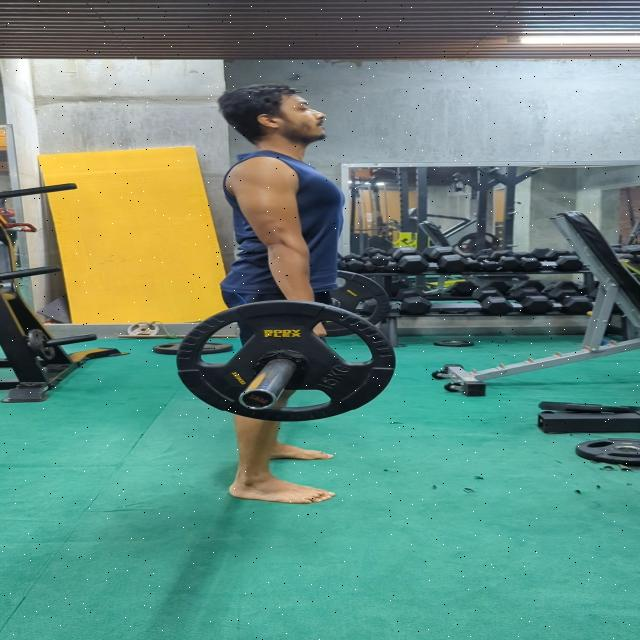Normal_Deadlifts: (212, 77, 344, 506)
